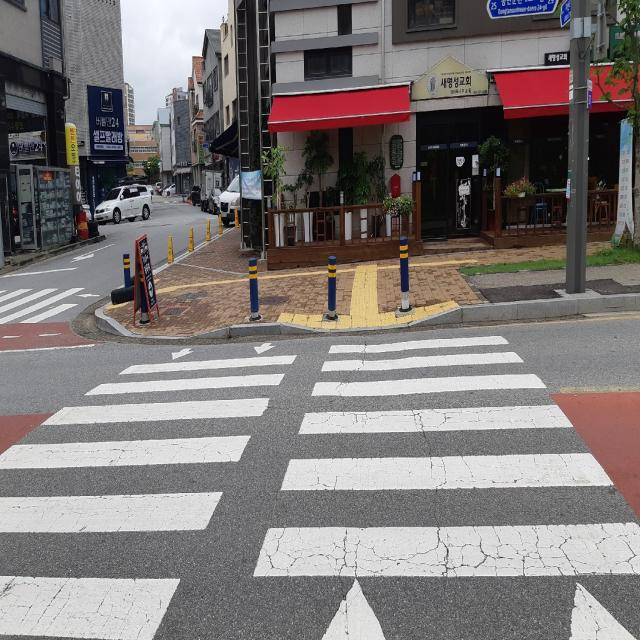횡단보도: (1, 332, 640, 640), (0, 285, 81, 314)
